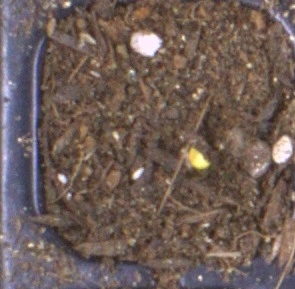chilli seed: (188, 146, 211, 170)
